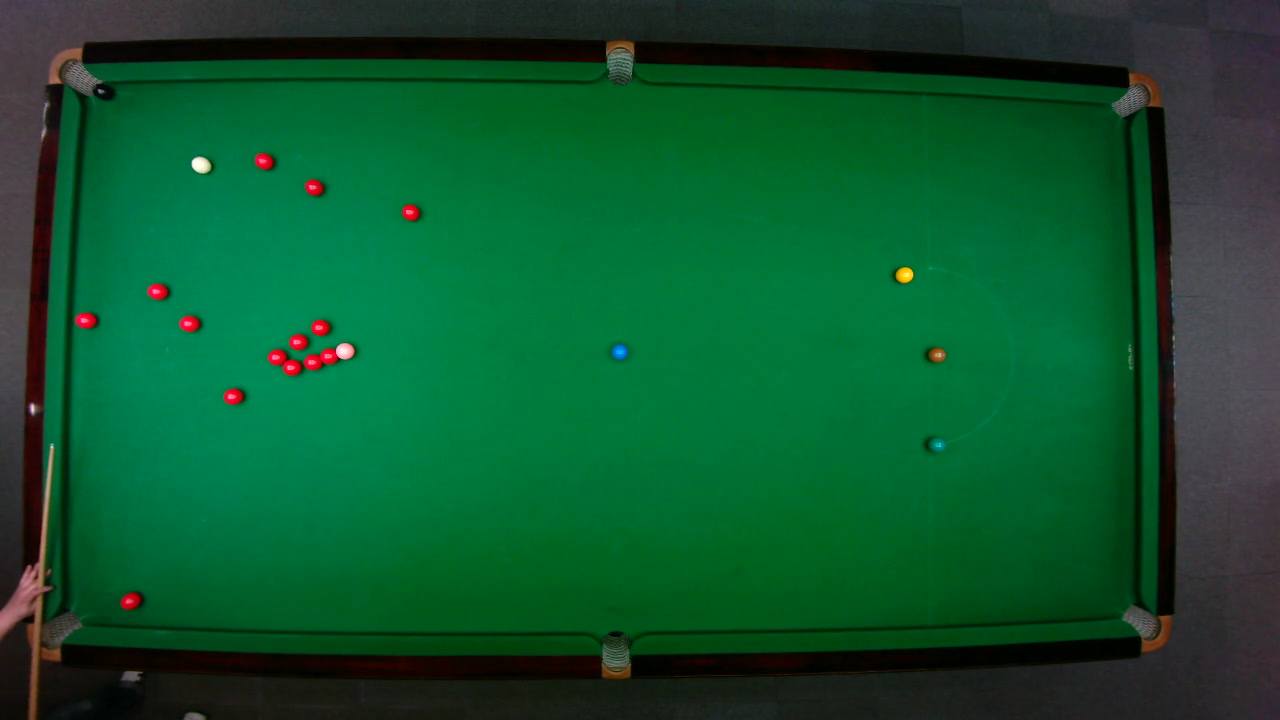bag: (29, 609, 83, 662), (46, 46, 103, 96), (1119, 603, 1171, 652), (1108, 71, 1161, 118), (600, 629, 630, 680), (605, 38, 633, 85)
black: (91, 82, 112, 99)
blue: (610, 342, 628, 360)
brown: (926, 346, 946, 362)
cue: (22, 440, 61, 720)
green: (926, 435, 946, 452)
pink: (334, 341, 355, 360)
red: (118, 590, 142, 610), (145, 281, 169, 300), (73, 310, 97, 329), (221, 386, 243, 405), (177, 314, 200, 332), (253, 151, 274, 170), (400, 202, 420, 221), (302, 352, 323, 370), (287, 332, 308, 350), (303, 178, 324, 196), (281, 358, 302, 376), (265, 348, 287, 365), (309, 318, 330, 335), (319, 346, 337, 365)
white: (189, 155, 211, 173)
yellow: (894, 265, 914, 283)
zone: (926, 265, 1013, 445)
